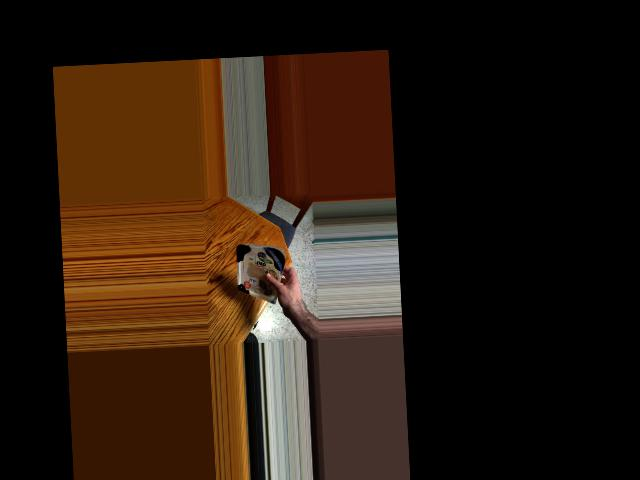cheese: (240, 240, 279, 301)
